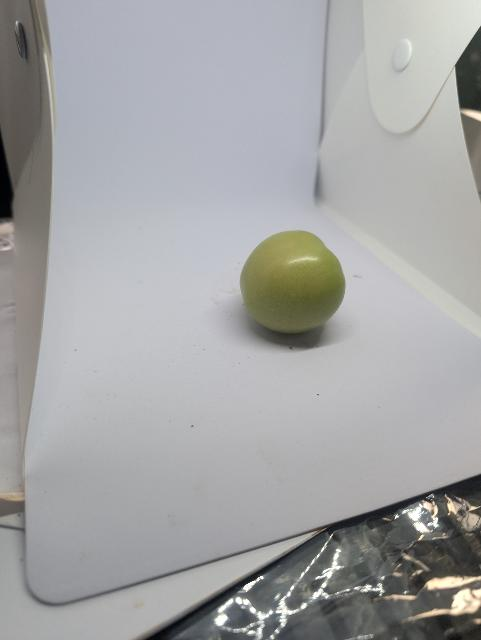green: (238, 228, 348, 336)
